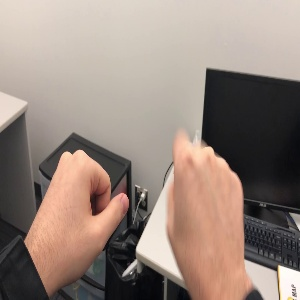hand: (28, 150, 129, 260), (167, 128, 244, 268)
